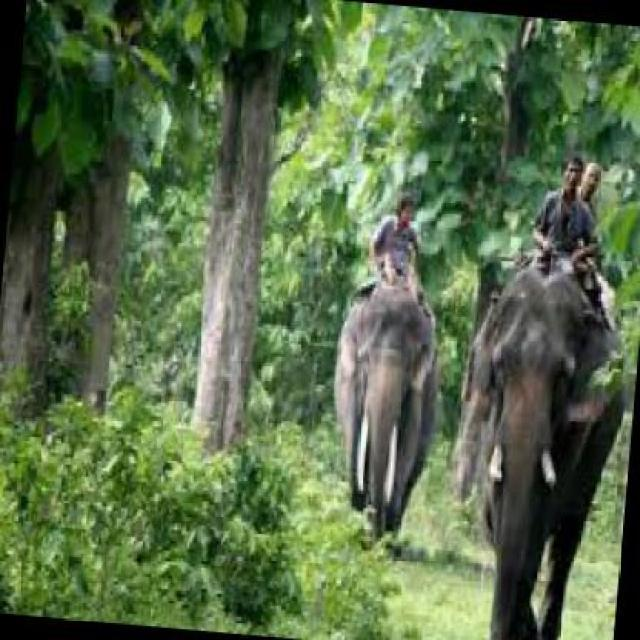p_time: (437, 260, 616, 592), (324, 290, 442, 516)
poacher: (523, 151, 619, 251), (354, 192, 446, 268)
